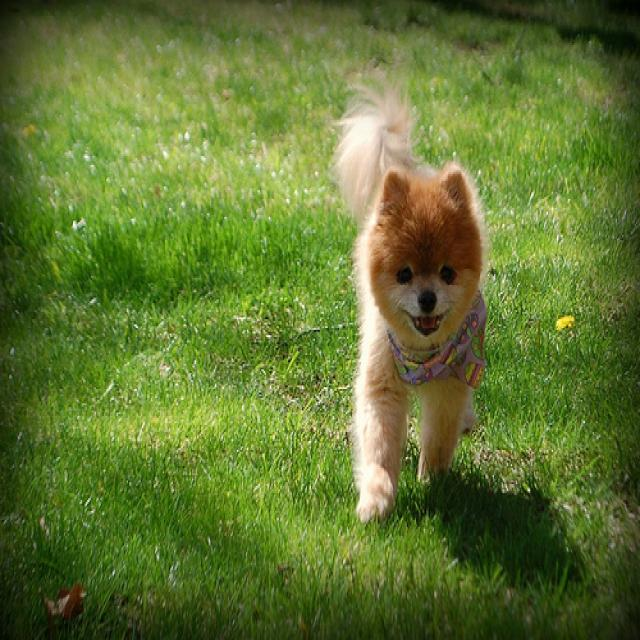dog-pomeranian: (326, 75, 498, 531)
